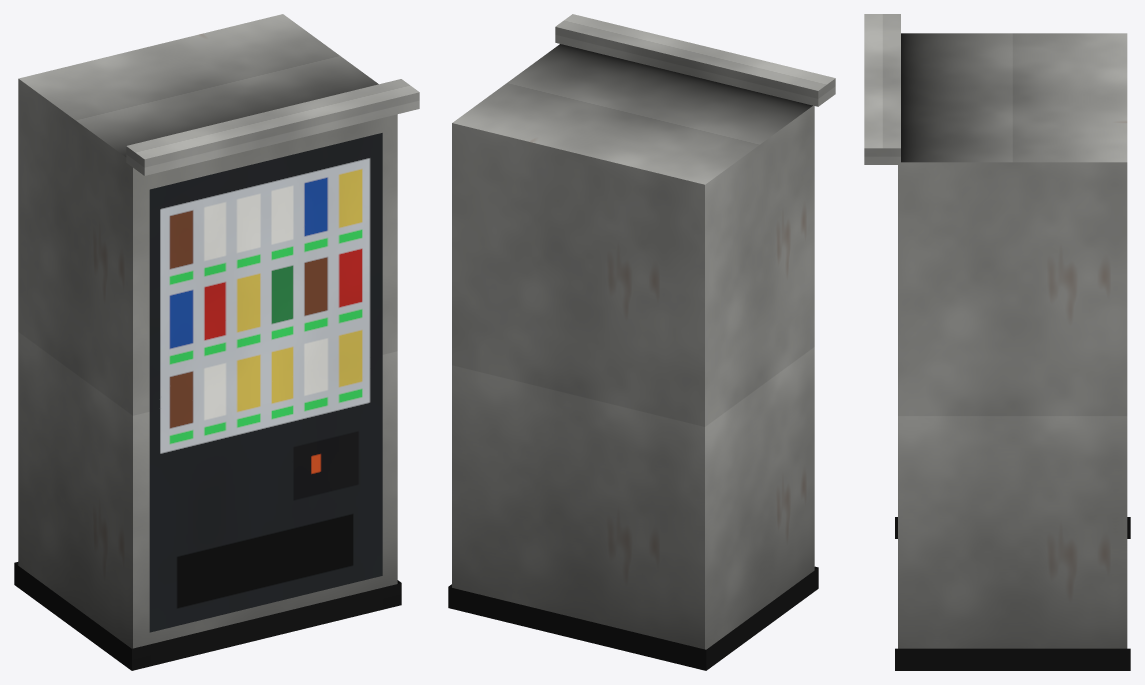
File: vending_machine.glb
3 views of the same model, side by side, from view 1: azimuth 30°, elevation 25°; view 2: azimuth 150°, elevation 25°; view 3: azimuth 270°, elevation 25° (orthographic). The views are drawn at different scales.
Parts seen in each view (by area): view 1: vending_machine; view 2: vending_machine; view 3: vending_machine.
Boxes of the visible parts, box(x1,y1,x2,y2) form: vending_machine: box(14, 14, 419, 670); vending_machine: box(448, 14, 835, 670); vending_machine: box(864, 14, 1130, 670).
Bounding box in the file's own units: 1.04 × 1.89 × 0.87.
Materials: 3 (3 with a texture image).
